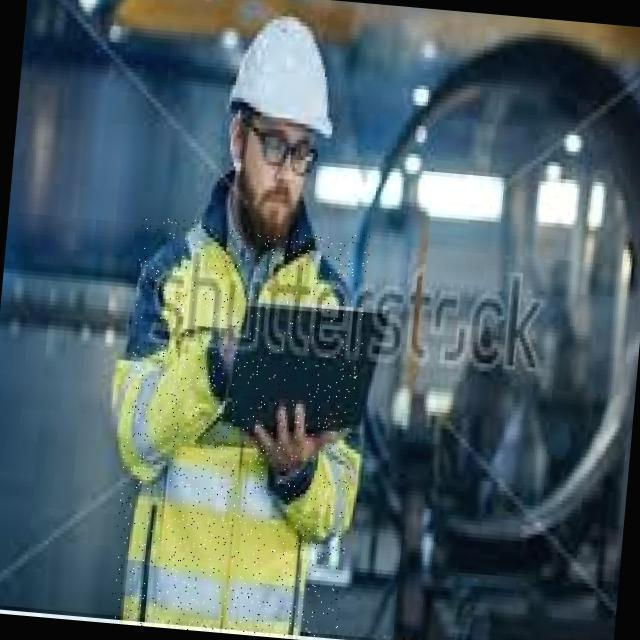helmet: (225, 5, 350, 153)
vest: (106, 215, 371, 640)
